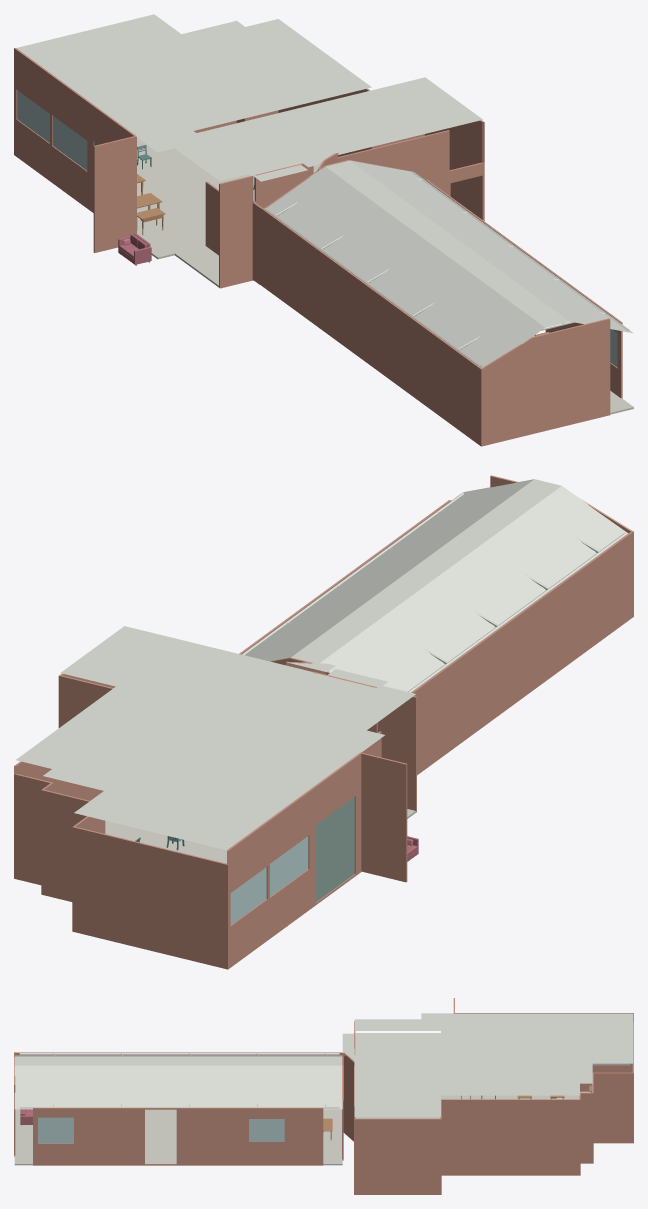
Rendered from venue-threejs-complete.glb.
The picture shows the model from 3 angles, top to bottom: view 1: azimuth 30°, elevation 25°; view 2: azimuth 150°, elevation 25°; view 3: azimuth 270°, elevation 25°; orthographic projection. The views are drawn at different scales.
Parts seen in each view (by area): view 1: Ceiling_Dining_Room_1, Wall_6, Ceiling_Living_Room_3, Ceiling_Dining_Room_2, Wall_25, Wall_7, Floor_Dining_Room_1, Ceiling_Living_Room_2, Ceiling_Living_Room_1, Wall_4, Wall_24, Wall_20 (+12 smaller); view 2: Ceiling_Dining_Room_1, Wall_6, Ceiling_Living_Room_3, Wall_11, Ceiling_Dining_Room_2, Wall_7, Ceiling_Living_Room_2, Ceiling_Living_Room_1, Wall_4, Wall_1, Ceiling_Living_Room_0, Door_0 (+10 smaller); view 3: Ceiling_Dining_Room_1, Wall_23, Ceiling_Living_Room_2, Wall_3, Ceiling_Dining_Room_2, Wall_10, Floor_Living_Room, Ceiling_Living_Room_1, Wall_18, Ceiling_Living_Room_4, Wall_2, Window_3 (+8 smaller).
Boxes of the visible parts, x1,y1,x2,y2 form: Ceiling_Dining_Room_1: (16,14,371,180); Wall_6: (260,207,481,446); Ceiling_Living_Room_3: (267,172,536,367); Ceiling_Dining_Room_2: (196,77,482,176); Wall_25: (481,318,610,446); Wall_7: (14,48,136,212); Floor_Dining_Room_1: (137,137,321,287); Ceiling_Living_Room_2: (350,160,620,330); Ceiling_Living_Room_1: (325,160,569,327); Wall_4: (93,136,136,252); Wall_24: (338,130,484,220); Wall_20: (219,176,251,288); Ceiling_Dining_Room_1: (16,684,415,850); Wall_6: (411,531,633,775); Ceiling_Living_Room_3: (328,492,628,691); Wall_11: (72,826,227,969); Ceiling_Dining_Room_2: (61,626,377,732); Wall_7: (227,752,361,969); Ceiling_Living_Room_2: (250,479,533,661); Ceiling_Living_Room_1: (291,479,561,663); Wall_4: (360,752,407,882); Wall_1: (41,789,89,901); Ceiling_Living_Room_0: (320,486,570,665); Door_0: (316,797,354,901); Ceiling_Dining_Room_1: (354,1013,633,1095); Wall_23: (33,1107,323,1165); Ceiling_Living_Room_2: (14,1065,341,1100); Wall_3: (441,1099,580,1175); Ceiling_Dining_Room_2: (354,1033,440,1116); Wall_10: (354,1118,441,1194); Floor_Living_Room: (14,1109,342,1165); Ceiling_Living_Room_1: (14,1056,341,1065); Wall_18: (593,1072,633,1143); Ceiling_Living_Room_4: (14,1100,342,1109); Wall_2: (580,1092,593,1163); Window_3: (38,1117,73,1143).
Size of the model in its own units: 18.76 by 5.94 by 41.96.
